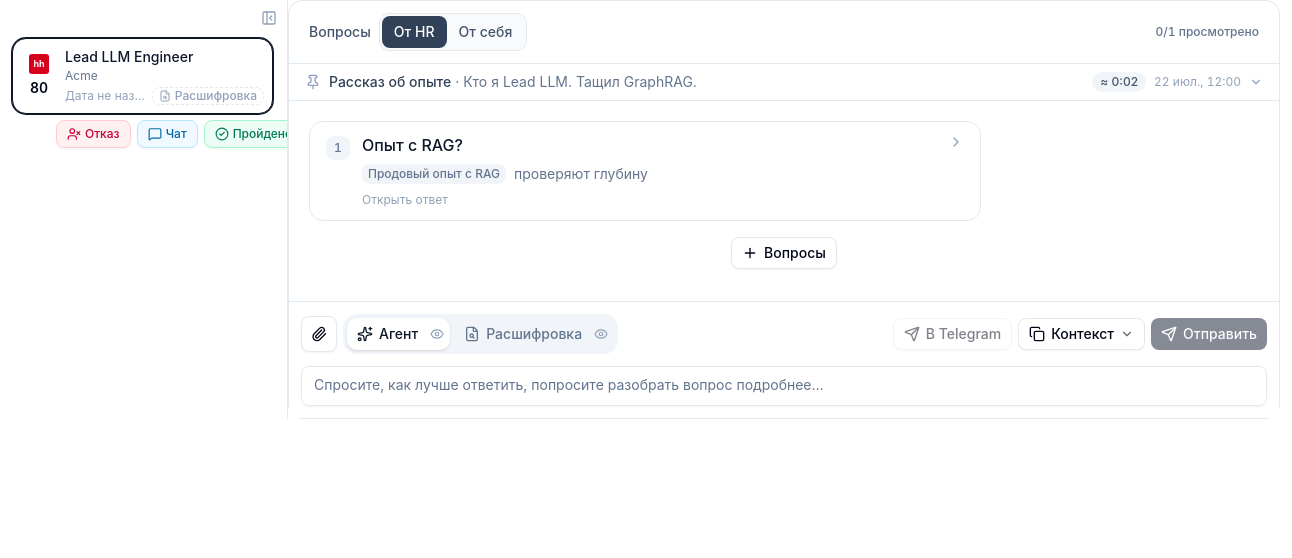
per-vacancy экран — «Рассказ об опыте» закреплён вверху ленты › клик по шапке раскрывает рассказ, «Пересобрать» доступно только там
Click the text "Рассказ об опыте".
click(390, 82)  # box [329,73,451,90]
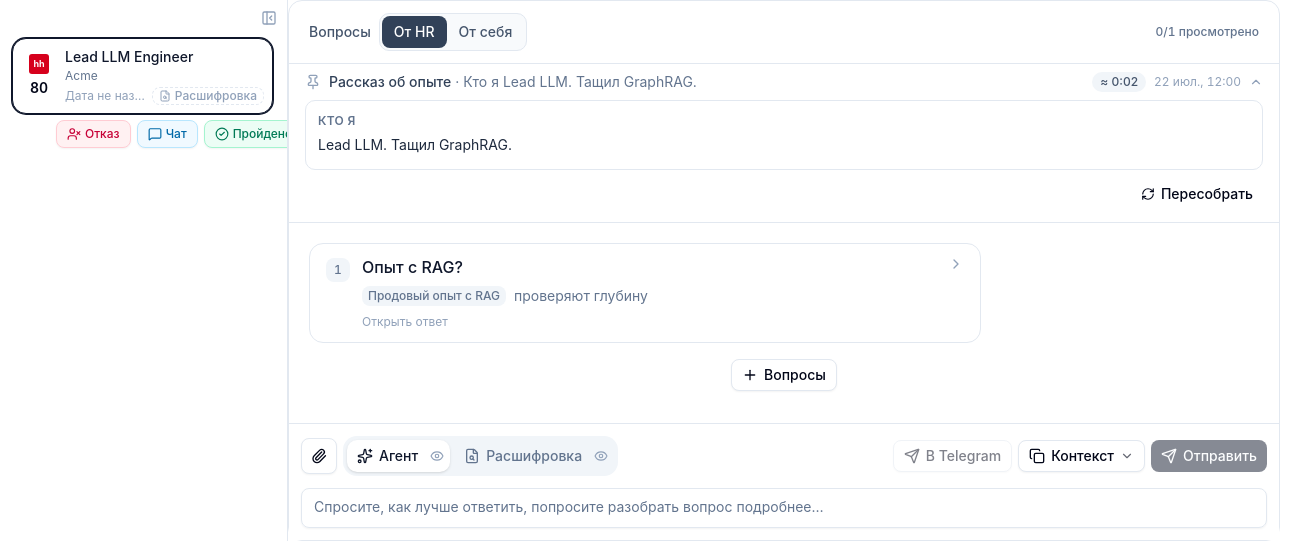
Check: the button with aria-label "Пересобрать рассказ" is shown, box [1131,178,1263,210]
Check: the text "Кто я" is shown, box [318,113,356,128]
